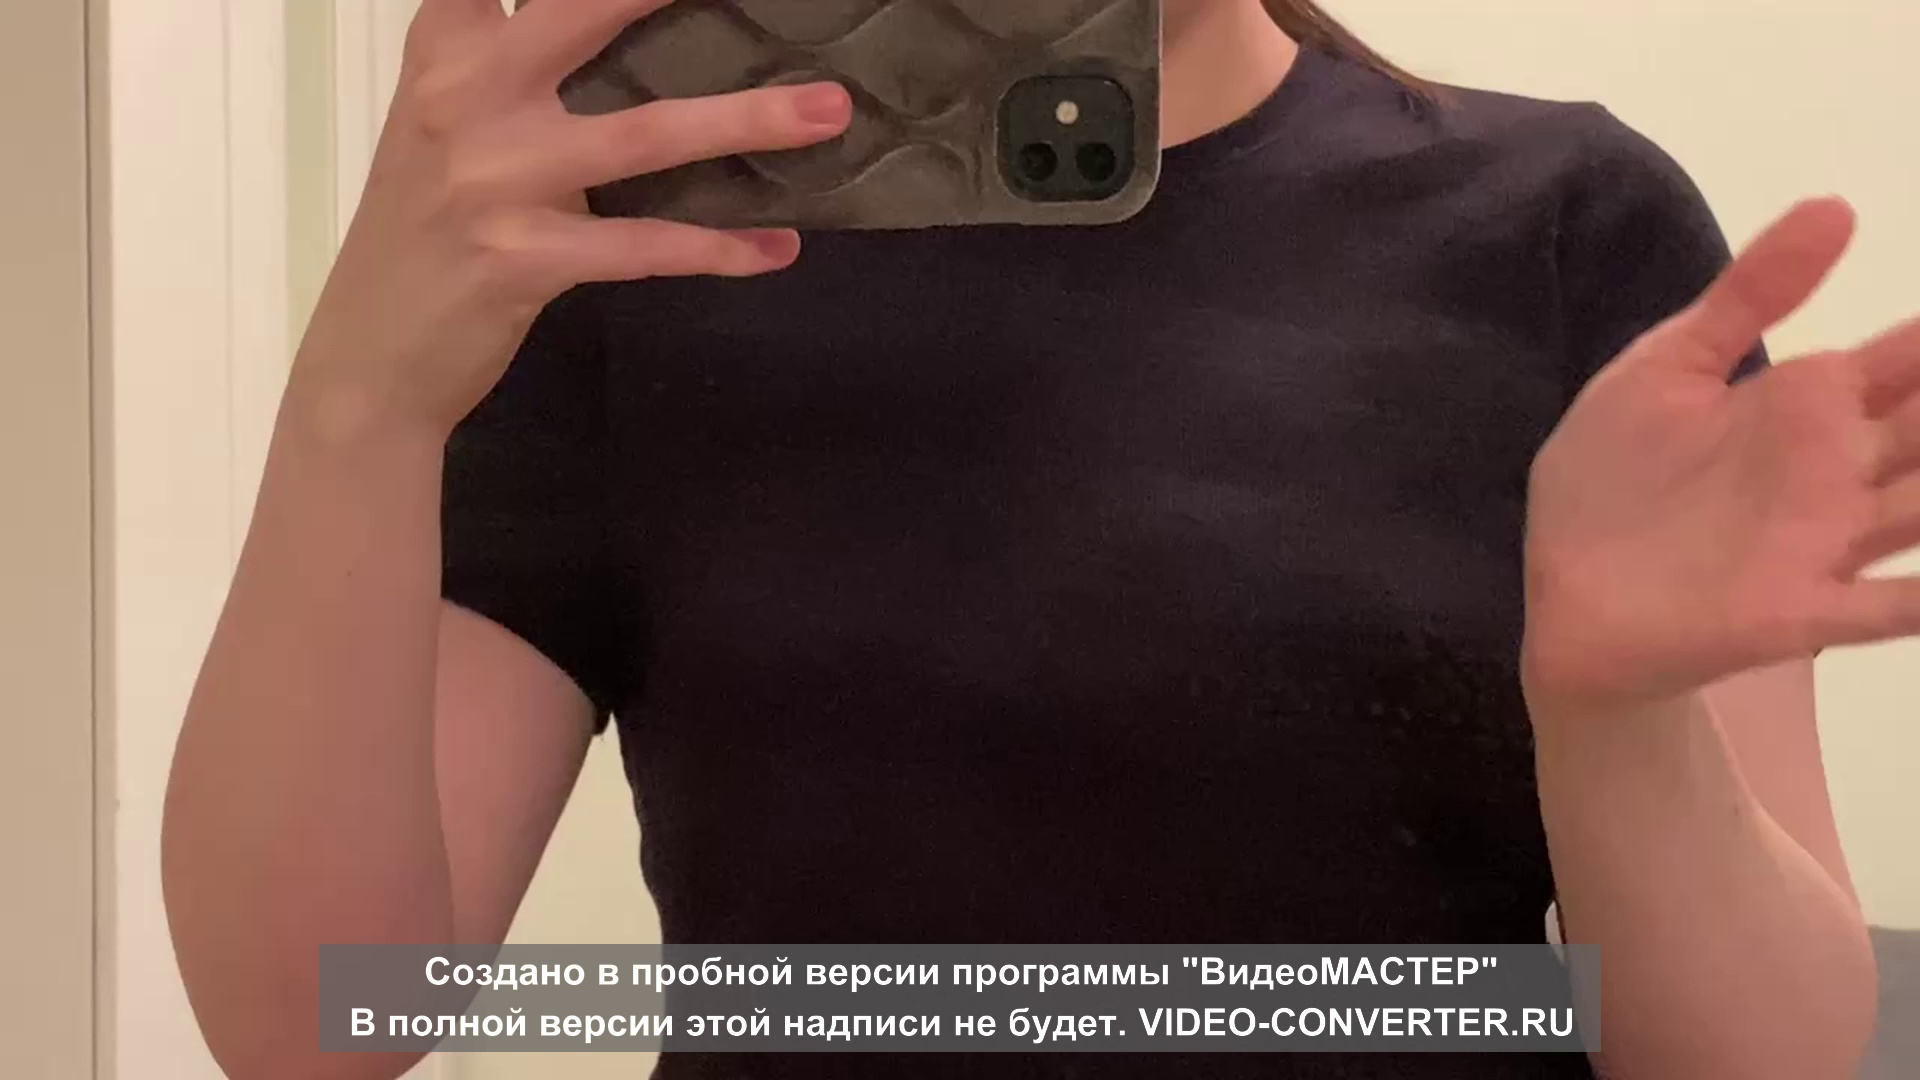Ладонь: (1532, 196, 1920, 699)
